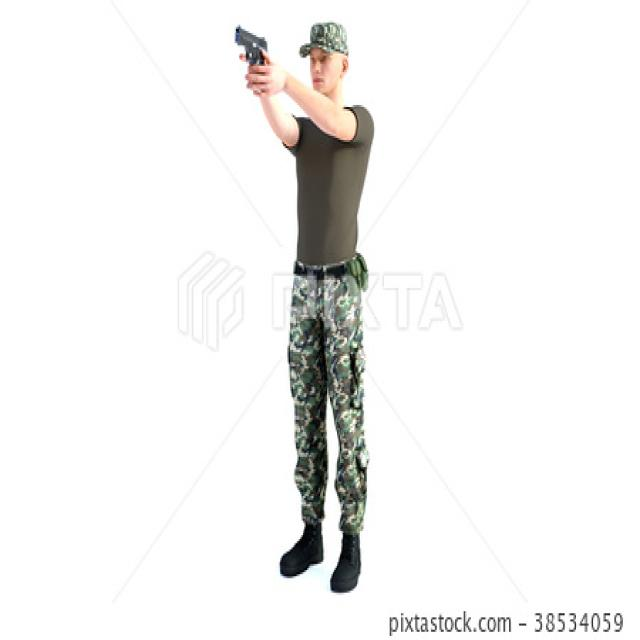HandGun: (232, 23, 273, 82)
